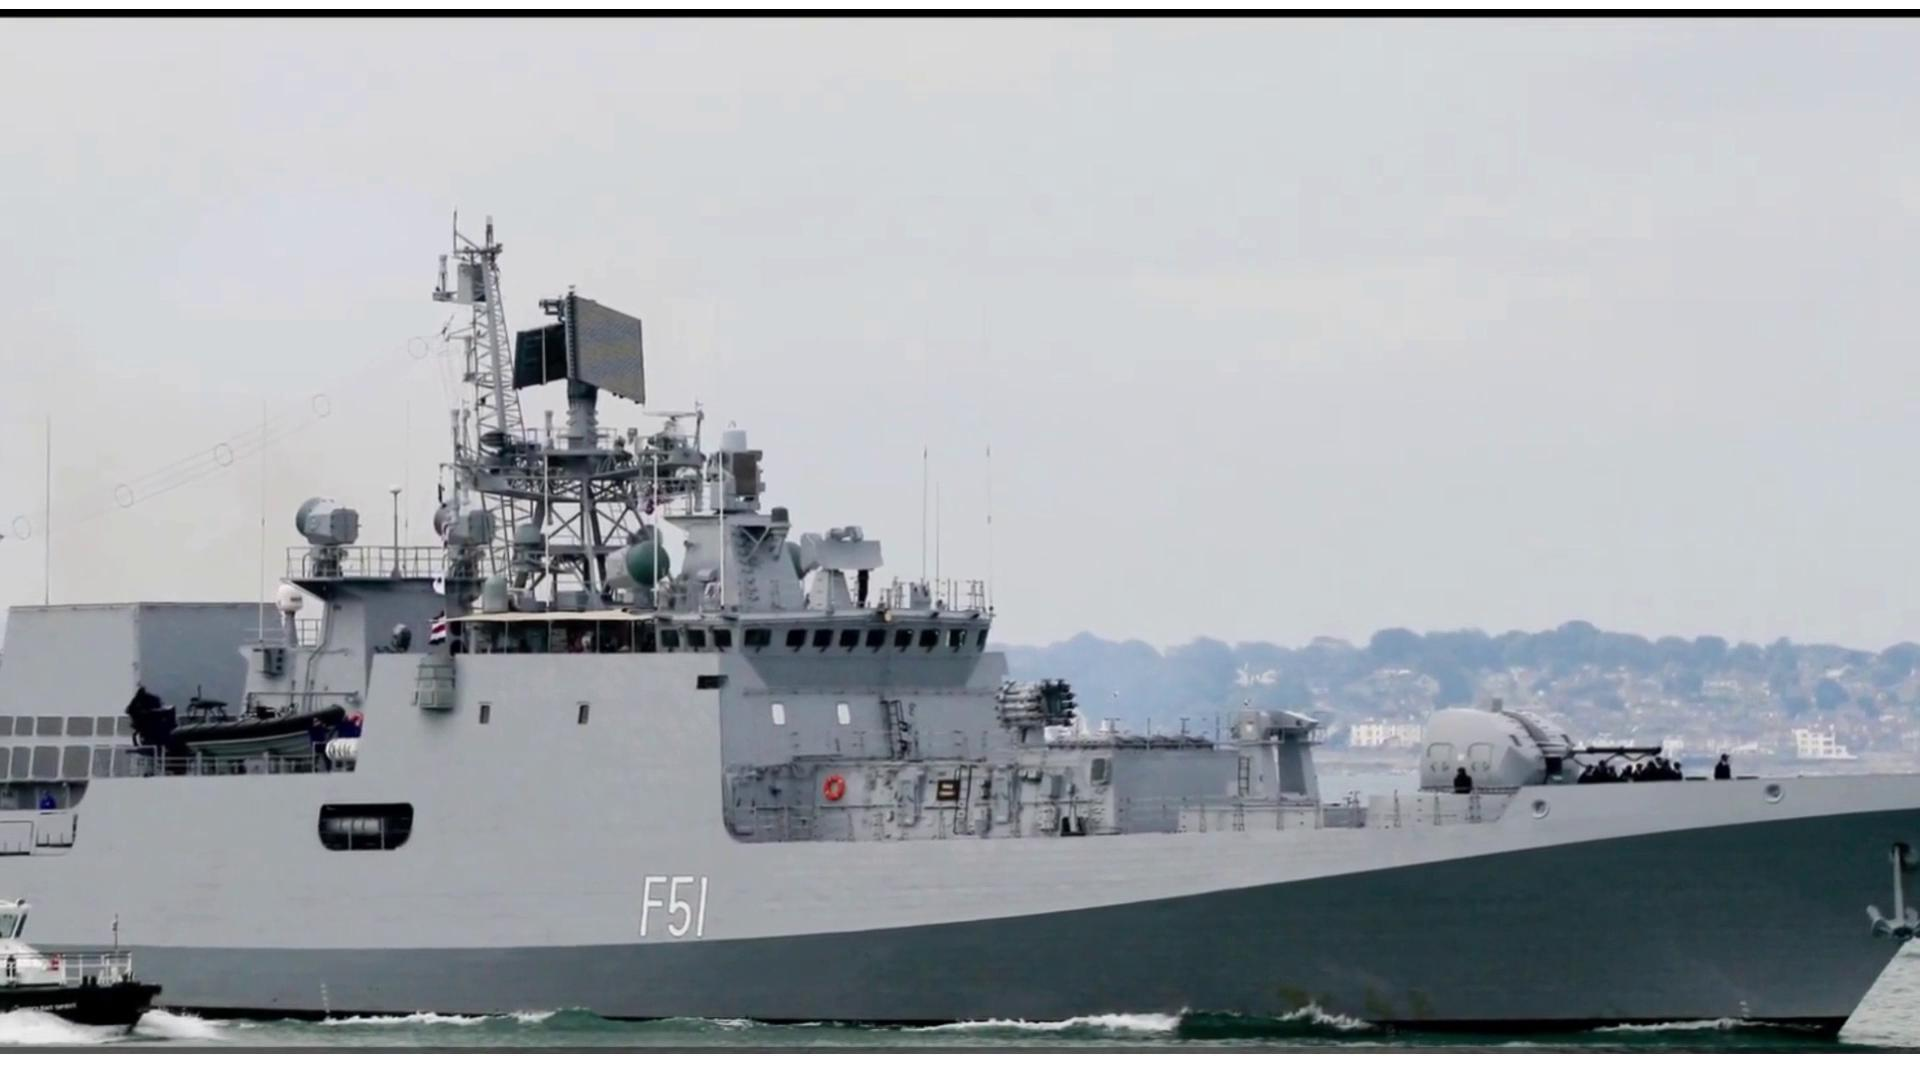OCR: (629, 864, 731, 953)
